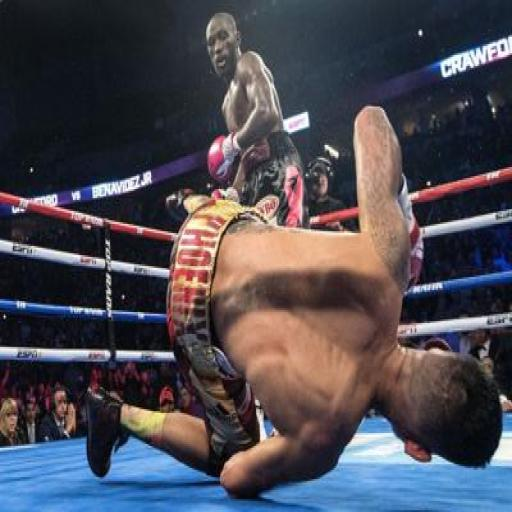boxing: (82, 103, 502, 499), (159, 12, 351, 323)
